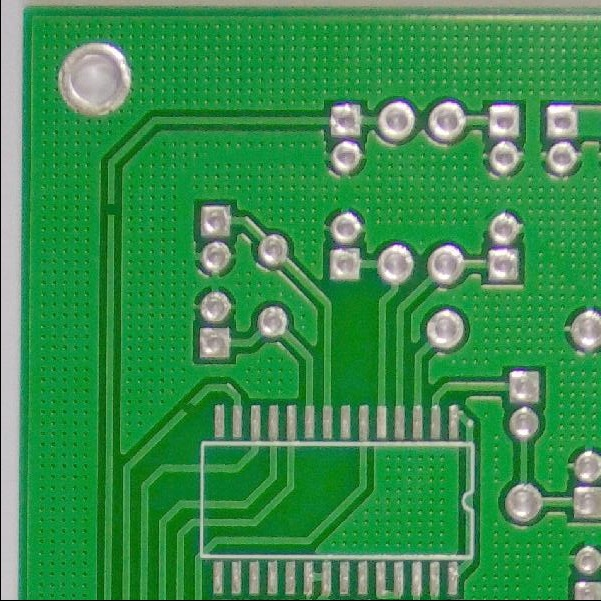open_circuit: (174, 396, 196, 421), (100, 199, 118, 221)
